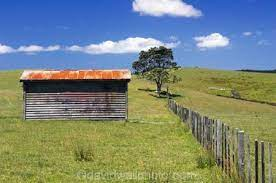Tin-shade House: (16, 65, 138, 120)
